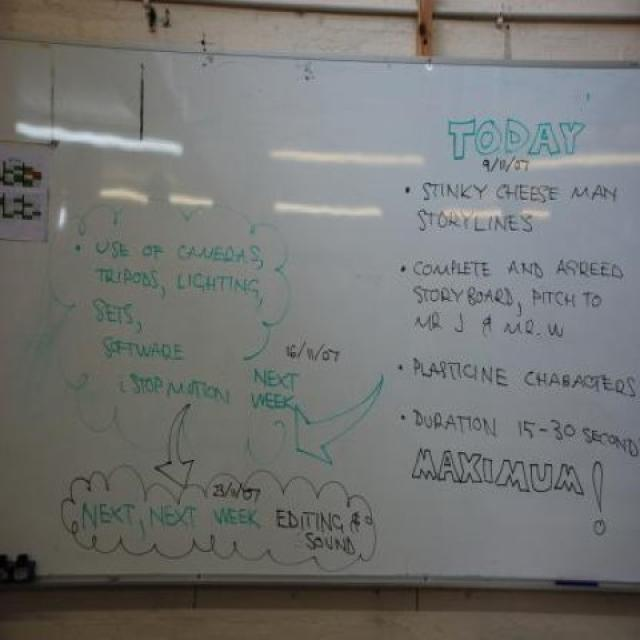White-board: (0, 34, 640, 592)
